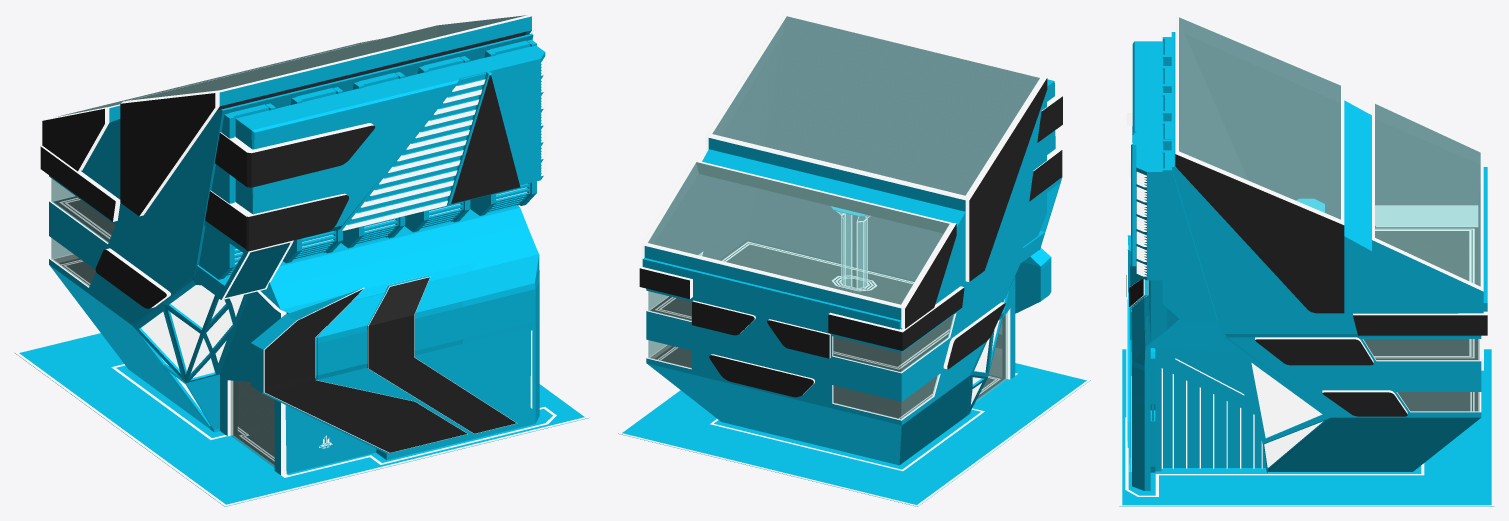
Rendered from Dhingia Builds 12 Size 2x2 Blue.glb.
3 views of the same model, side by side, from view 1: azimuth 30°, elevation 25°; view 2: azimuth 150°, elevation 25°; view 3: azimuth 270°, elevation 25° (orthographic). The views are drawn at different scales.
Parts seen in each view (by area): view 1: 0 main Building, Ground, Glass, InnerBox, Lights; view 2: 0 main Building, Glass, InnerBox, Ground, Lights, Lift Glass; view 3: 0 main Building, Glass, InnerBox, Ground, Lights.
Part boxes in pixels (<box>): 0 main Building: <box>40,14,546,475</box>; Ground: <box>14,331,589,506</box>; Glass: <box>51,14,529,467</box>; InnerBox: <box>54,15,525,464</box>; Lights: <box>59,197,556,477</box>; 0 main Building: <box>639,14,1062,465</box>; Glass: <box>645,14,1042,419</box>; InnerBox: <box>648,16,1039,418</box>; Ground: <box>618,361,1090,506</box>; Lights: <box>655,241,1017,471</box>; Lift Glass: <box>830,206,870,287</box>; 0 main Building: <box>1126,14,1487,490</box>; Glass: <box>1177,15,1482,411</box>; InnerBox: <box>1179,17,1480,411</box>; Ground: <box>1119,348,1494,506</box>; Lights: <box>1125,228,1474,496</box>.
Size of what is drawn, in the model's own units: 32 by 32.41 by 32.
Materials: 7 (3 with a texture image).
